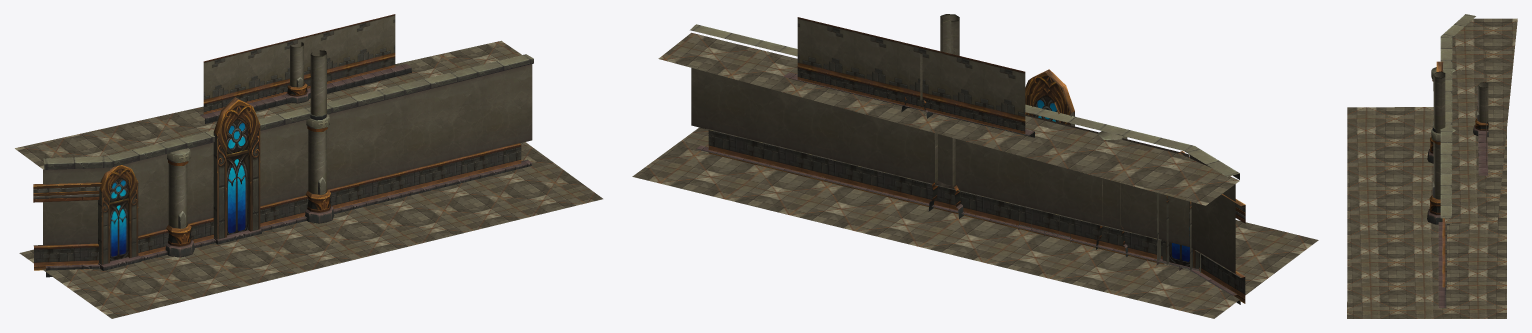
Rendered from section03_guanka10dimian6.FBX.
The picture shows the model from 3 angles, left to right: view 1: azimuth 30°, elevation 25°; view 2: azimuth 150°, elevation 25°; view 3: azimuth 270°, elevation 25°; orthographic projection. The views are drawn at different scales.
Parts seen in each view (by area): view 1: section03_guanka10dimian6; view 2: section03_guanka10dimian6; view 3: section03_guanka10dimian6.
Boxes of the visible parts, x1,y1,x2,y2 form: section03_guanka10dimian6: (15,14,602,318); section03_guanka10dimian6: (632,14,1318,318); section03_guanka10dimian6: (1347,14,1517,318).
Bounding box in the file's own units: 84.48 × 28.33 × 27.56.
